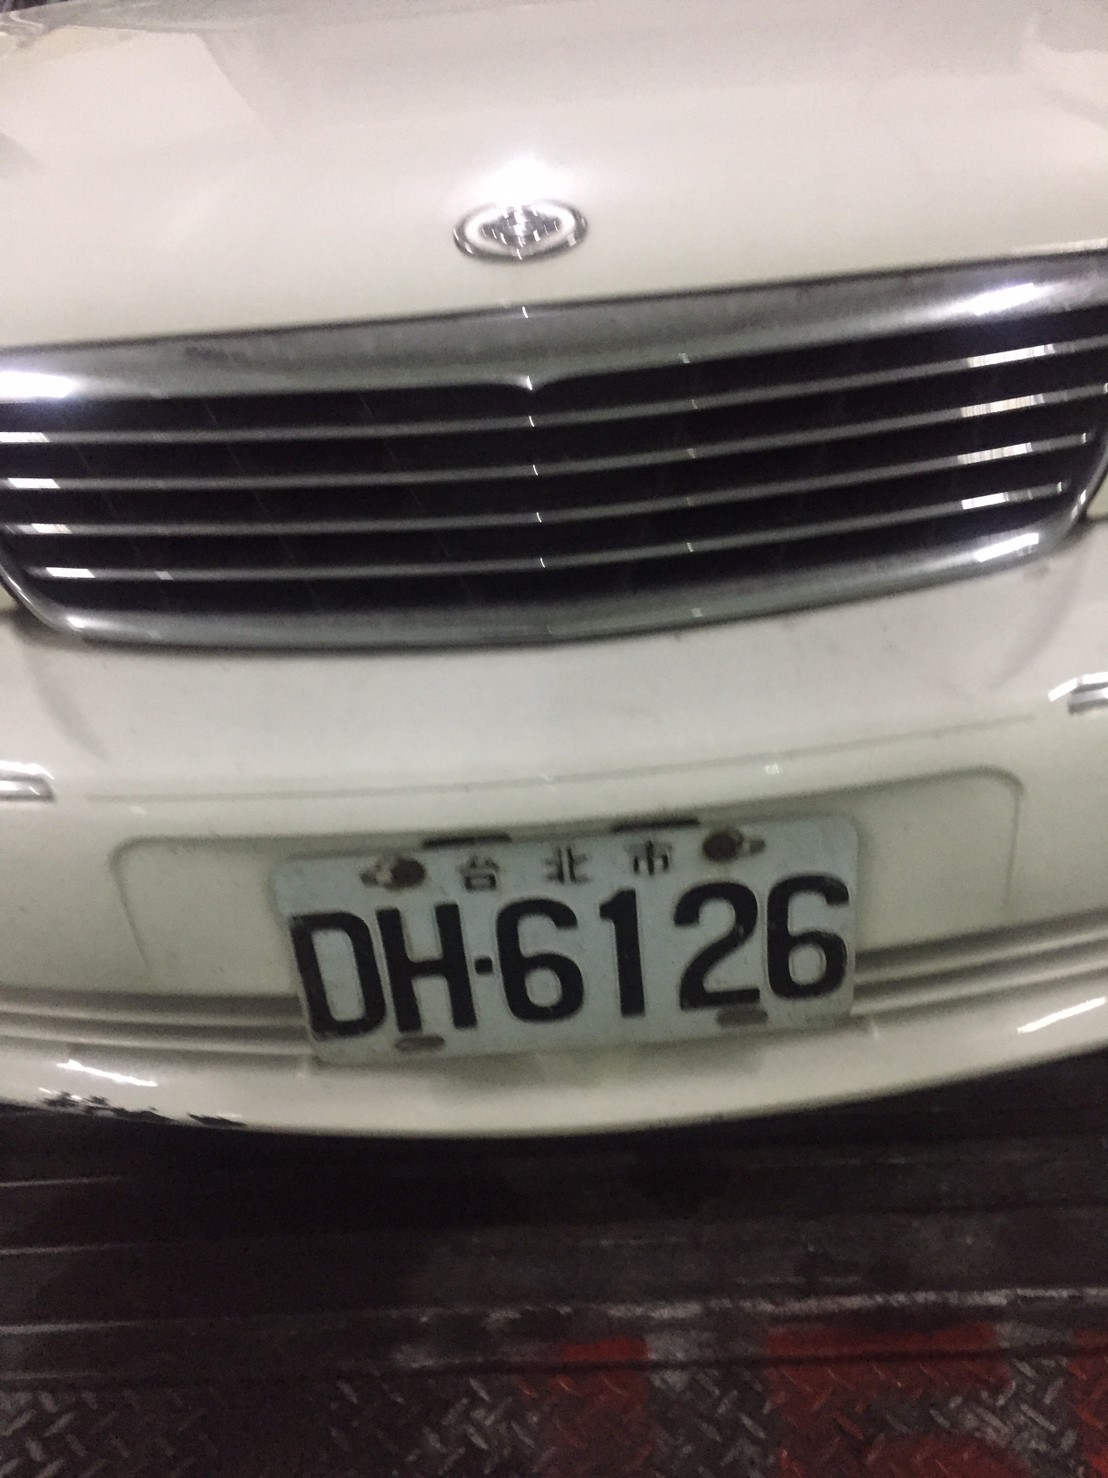LP: (278, 826, 860, 1061)
